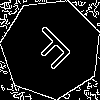F: (26, 23, 81, 78)
